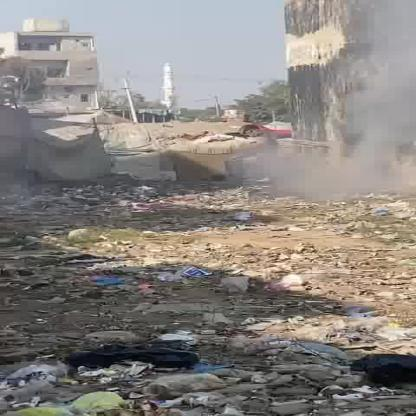Garbage: (1, 185, 416, 416)
